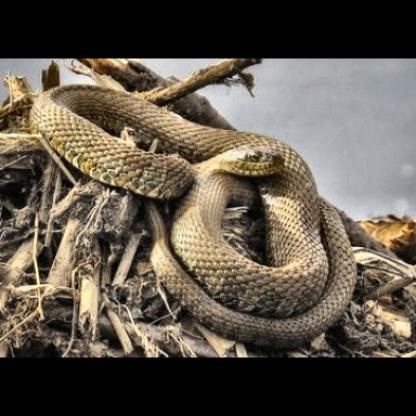Snake: (25, 84, 362, 354)
